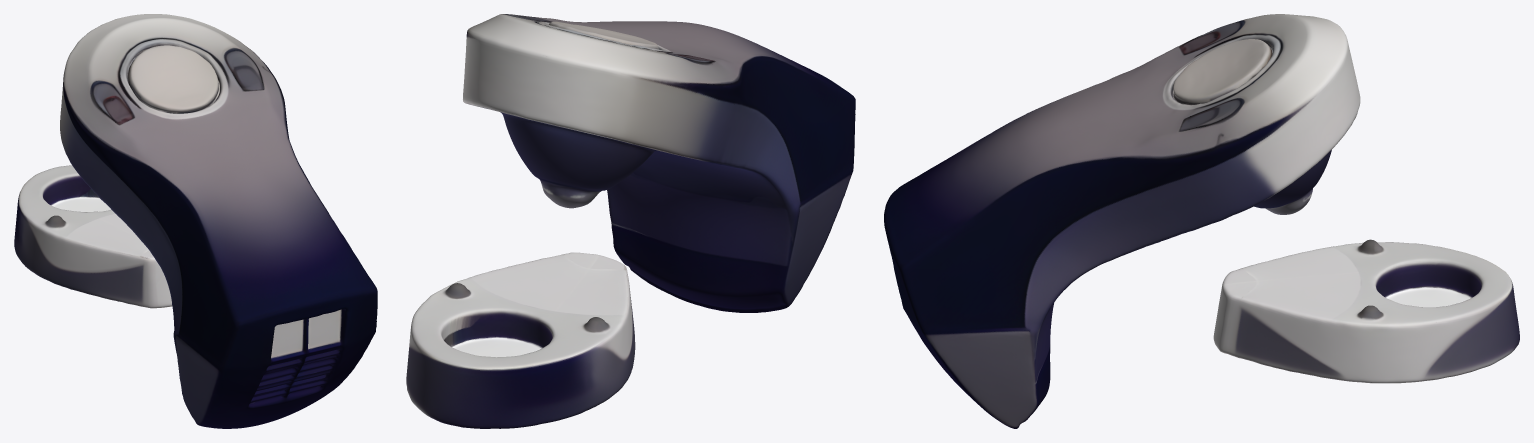
Rendered from The Oligoscan 1.glb.
The picture shows the model from 3 angles, left to right: view 1: azimuth 30°, elevation 25°; view 2: azimuth 150°, elevation 25°; view 3: azimuth 270°, elevation 25°; orthographic projection. The views are drawn at different scales.
Parts seen in each view (by area): view 1: model; view 2: model; view 3: model.
Part boxes in pixels (<box>): model: <box>14,14,377,428</box>; model: <box>406,14,855,428</box>; model: <box>884,14,1519,428</box>.
Bounding box in the file's own units: 0.8111 × 1.24 × 1.9.
Materials: 1 (1 with a texture image).
